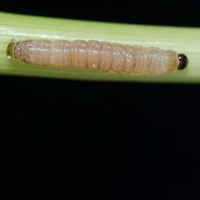insect: (7, 40, 187, 74)
